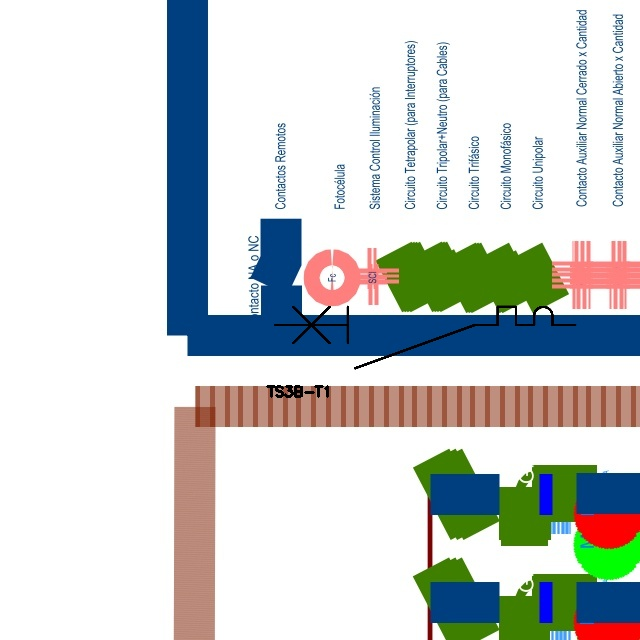interruptor_termomagnetico: (267, 299, 583, 376)
